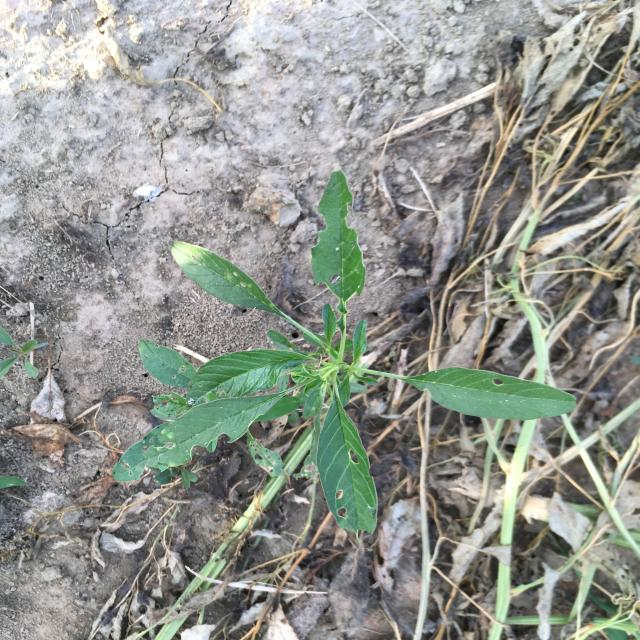Waterhemp: (111, 170, 577, 535), (0, 326, 49, 378)
